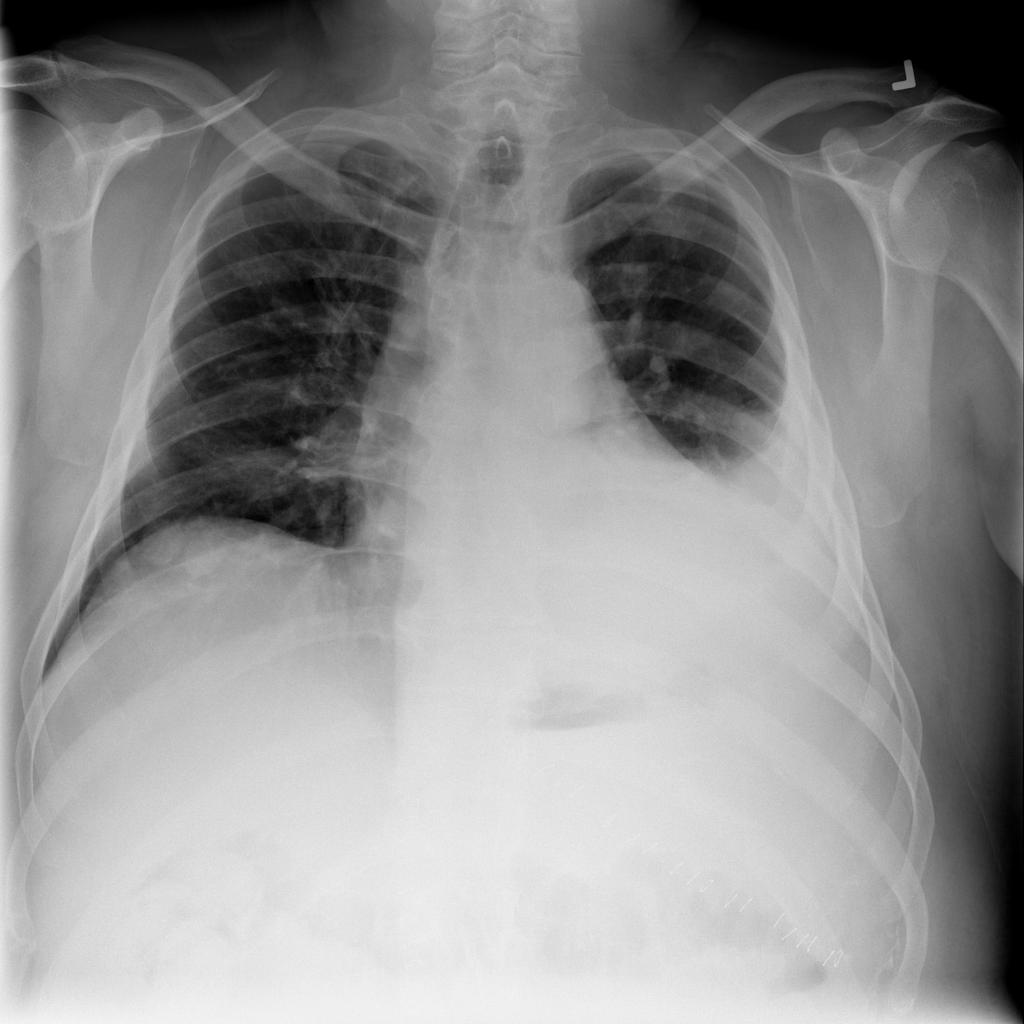nodule: (121, 500, 258, 595)
